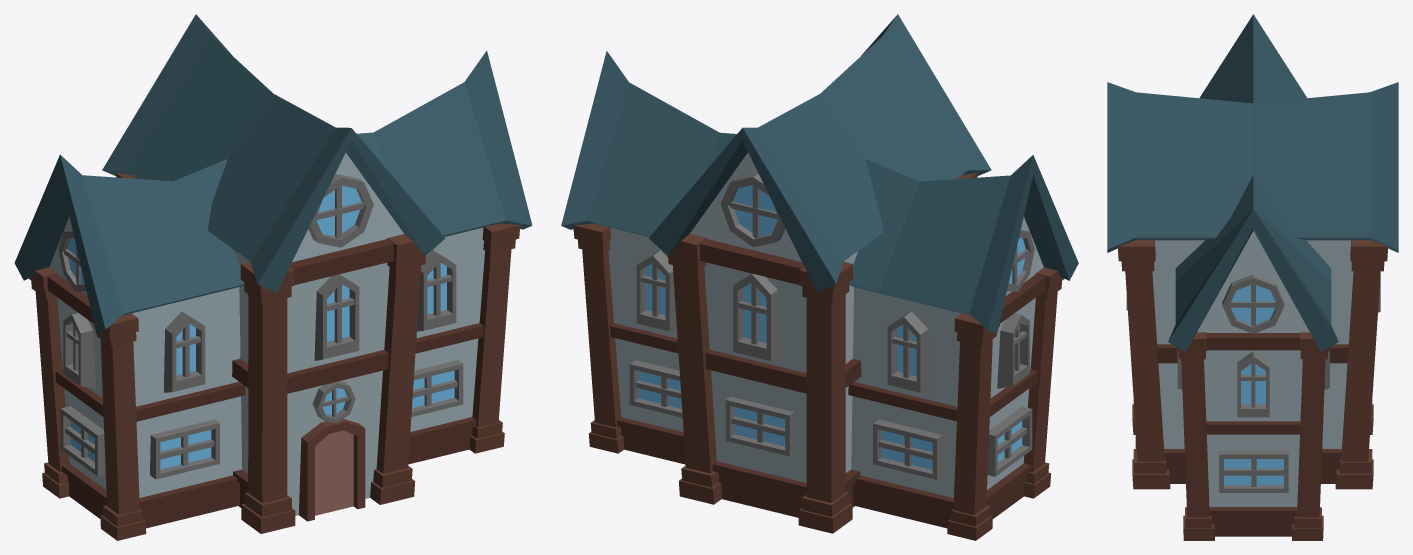
Rendered from CASA08.fbx.
3 renders of one model, left to right at view 1: azimuth 30°, elevation 25°; view 2: azimuth 150°, elevation 25°; view 3: azimuth 270°, elevation 25°, orthographic. The views are drawn at different scales.
Visible parts, largest first — view 1: CASA08; view 2: CASA08; view 3: CASA08.
Part boxes in pixels (x1,y1,x2,y2): CASA08: (14,14,532,540); CASA08: (561,14,1078,540); CASA08: (1107,14,1398,540).
Bounding box in the file's own units: 1331 × 1185 × 840.
1 material, 1 textured.
